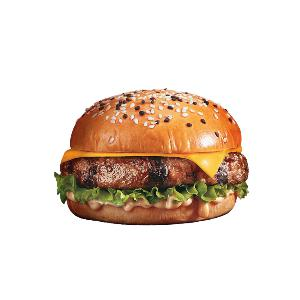cheeseburger_475cal: (52, 81, 253, 229)
